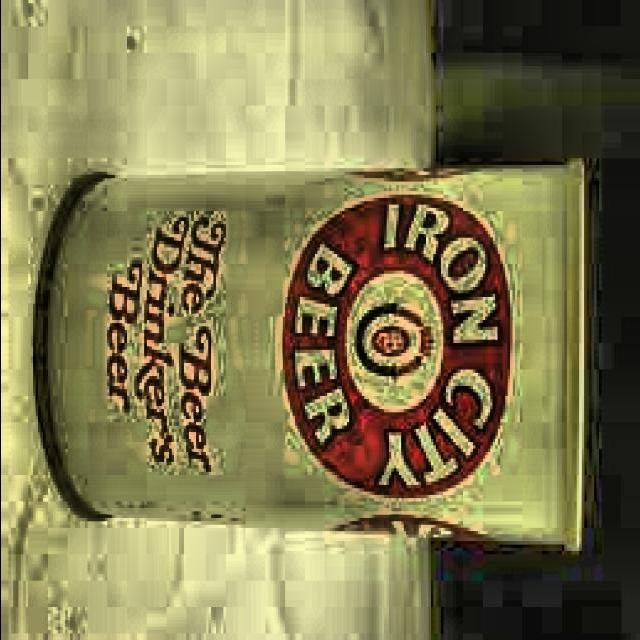Aluminum Can: (24, 156, 594, 557)
